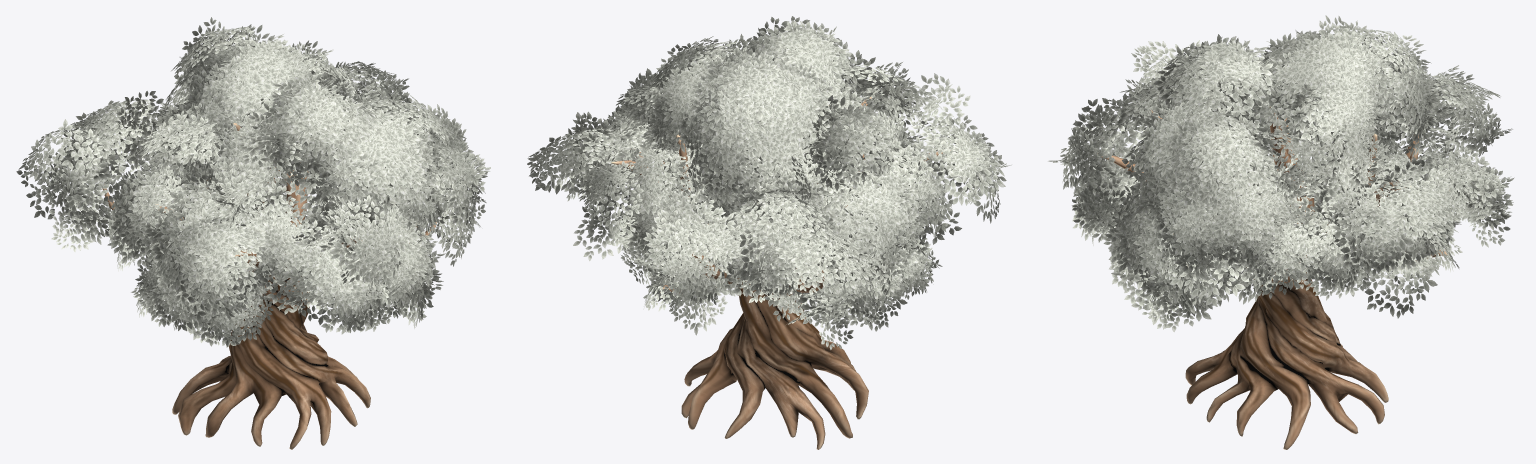
Rendered from Main_Tree003.fbx.
3 views of the same model, side by side, from view 1: azimuth 30°, elevation 25°; view 2: azimuth 150°, elevation 25°; view 3: azimuth 270°, elevation 25° (orthographic). The views are drawn at different scales.
Parts seen in each view (by area): view 1: MSH_fwOF_Tree_Med_02_LOD0, ZBrush_defualt_group; view 2: MSH_fwOF_Tree_Med_02_LOD0, ZBrush_defualt_group; view 3: MSH_fwOF_Tree_Med_02_LOD0, ZBrush_defualt_group.
Part boxes in pixels (box(x1,y1,x2,y2)): MSH_fwOF_Tree_Med_02_LOD0: box(16, 17, 490, 347); ZBrush_defualt_group: box(102, 123, 436, 449); MSH_fwOF_Tree_Med_02_LOD0: box(527, 16, 1011, 349); ZBrush_defualt_group: box(611, 97, 950, 449); MSH_fwOF_Tree_Med_02_LOD0: box(1048, 15, 1514, 331); ZBrush_defualt_group: box(1097, 106, 1449, 449).
Size of the model in its own units: 334 by 336 by 371.
